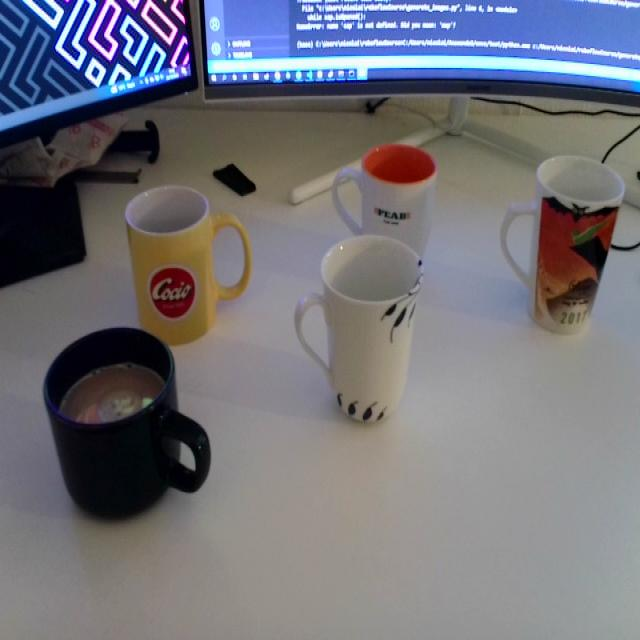Cocio Cup: (122, 185, 252, 344)
Cup: (42, 323, 212, 522)
Halloween cup: (496, 157, 626, 337)
Hand painted cup: (290, 234, 425, 426)
White Cup: (327, 142, 439, 244)
